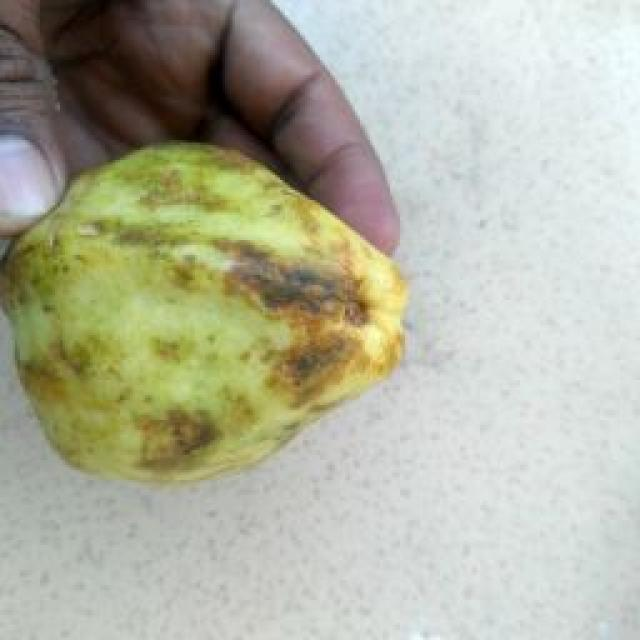Bad_Guava: (5, 144, 408, 481)
